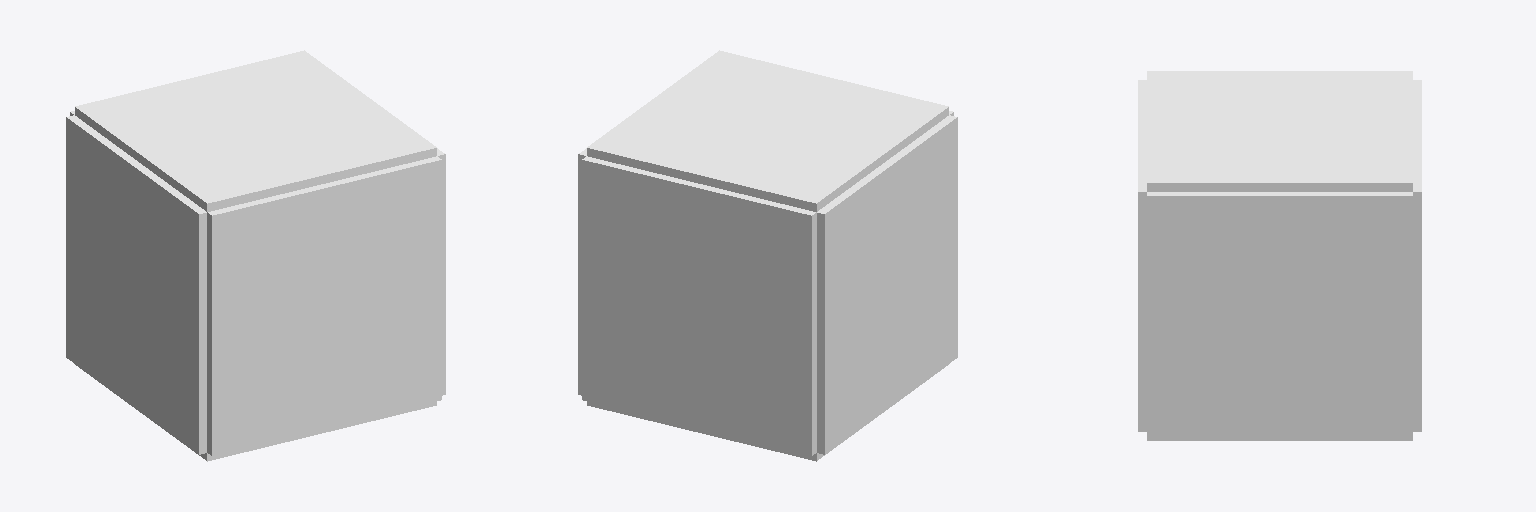
Rendered from white_king.obj.
3 views of the same model, side by side, from view 1: azimuth 30°, elevation 25°; view 2: azimuth 150°, elevation 25°; view 3: azimuth 270°, elevation 25° (orthographic).
Parts seen in each view (by area): view 1: object 1; view 2: object 1; view 3: object 1.
Boxes of the visible parts, x1,y1,x2,y2 form: object 1: [66, 50, 445, 461]; object 1: [578, 50, 957, 461]; object 1: [1138, 71, 1421, 440].
Bounding box in the file's own units: 3 × 3 × 3.